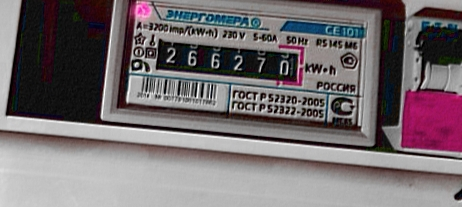0: (277, 58, 290, 76)
2: (162, 45, 177, 64), (231, 53, 244, 72)
6: (185, 48, 199, 68), (208, 52, 222, 71)
7: (254, 55, 267, 74)
screen: (144, 29, 311, 93)
